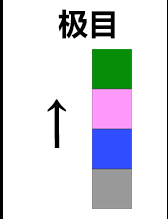arrow: (43, 90, 70, 155)
